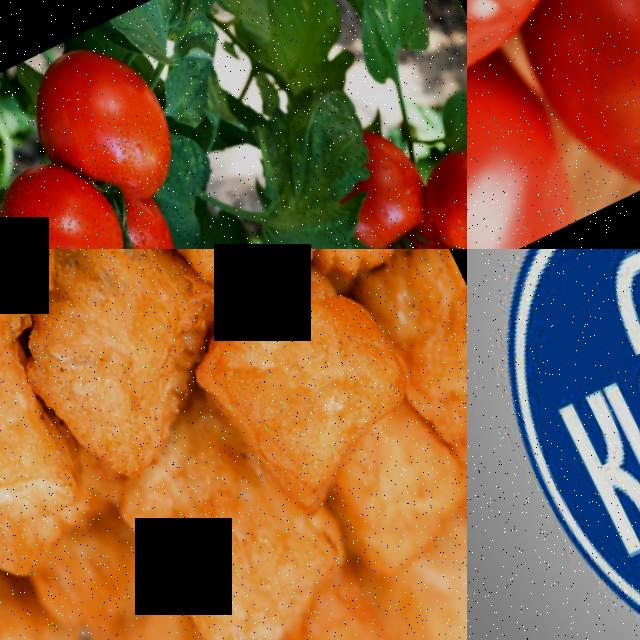tofu: (154, 249, 443, 536), (0, 249, 238, 494), (93, 399, 330, 640), (0, 349, 105, 597)
tomato: (11, 23, 195, 226), (467, 0, 640, 177), (0, 140, 157, 249), (405, 135, 467, 249)
